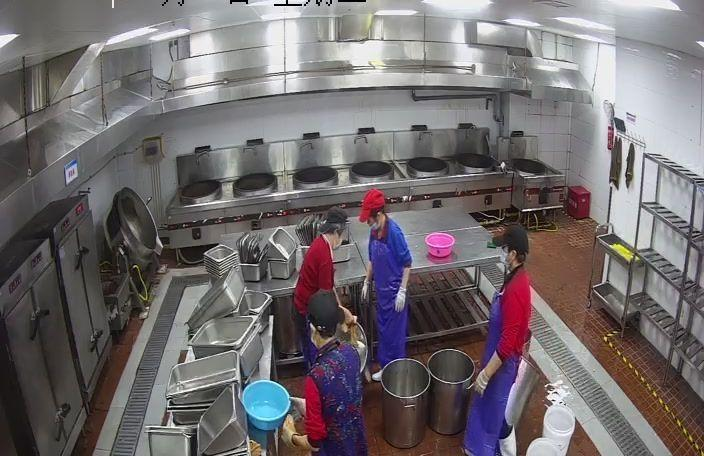apron: (472, 360, 502, 398), (275, 418, 310, 446), (285, 390, 315, 417), (393, 276, 411, 320), (357, 270, 375, 308)
mask: (492, 246, 525, 276), (326, 231, 348, 258), (365, 214, 383, 233)
